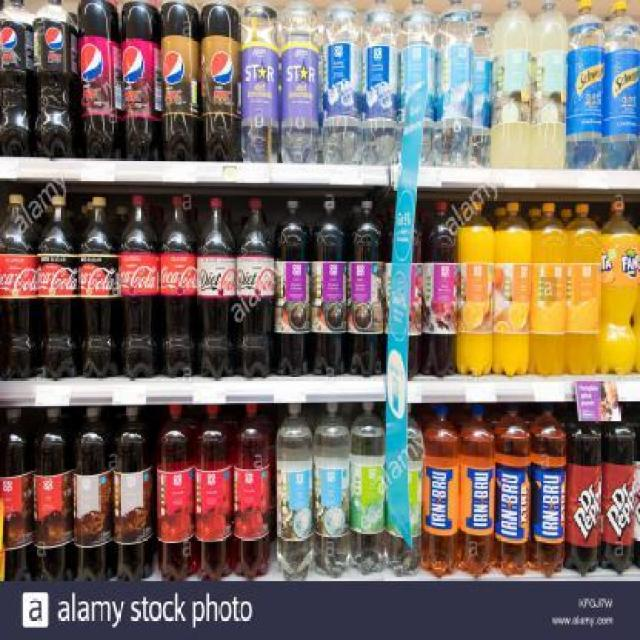Drinks: (35, 196, 77, 378), (158, 195, 199, 376), (117, 196, 158, 376), (32, 0, 78, 158), (78, 197, 118, 377), (197, 196, 237, 376), (237, 197, 277, 377), (77, 0, 121, 157), (600, 198, 638, 374), (567, 400, 604, 575), (1, 195, 36, 379), (199, 2, 239, 161), (122, 1, 160, 161), (161, 0, 199, 160), (1, 0, 36, 157), (604, 404, 636, 573)
